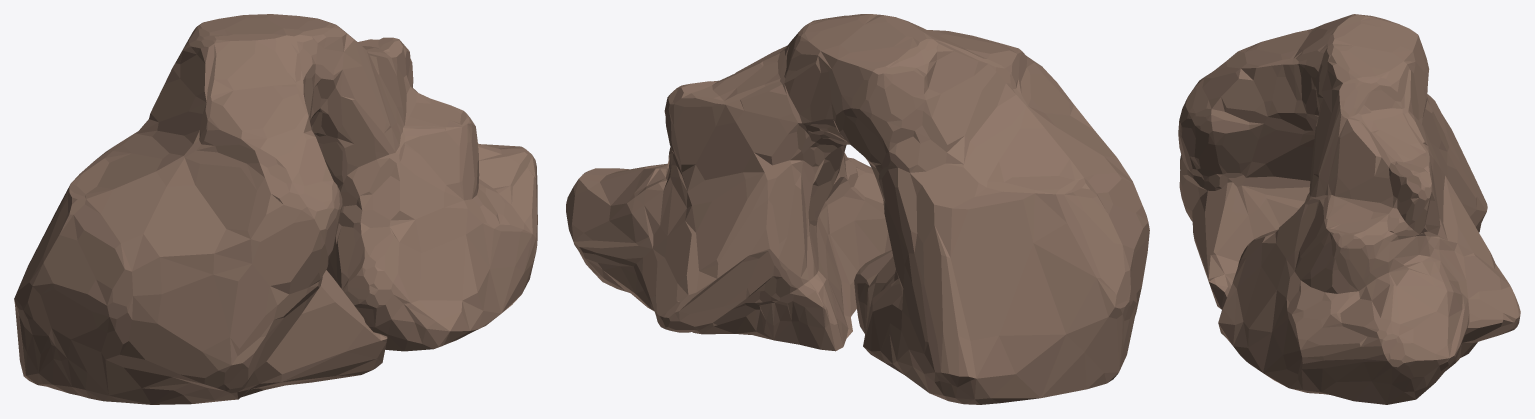
The model's file is zone3-s26.glb.
3 views of the same model, side by side, from view 1: azimuth 30°, elevation 25°; view 2: azimuth 150°, elevation 25°; view 3: azimuth 270°, elevation 25° (orthographic). The views are drawn at different scales.
Parts seen in each view (by area): view 1: rock-sea-huge-tunnel-a.001; view 2: rock-sea-huge-tunnel-a.001; view 3: rock-sea-huge-tunnel-a.001.
Part boxes in pixels (x1=…): rock-sea-huge-tunnel-a.001: x1=14, y1=14, x2=537, y2=404; rock-sea-huge-tunnel-a.001: x1=566, y1=14, x2=1149, y2=404; rock-sea-huge-tunnel-a.001: x1=1178, y1=14, x2=1520, y2=404.
Bounding box in the file's own units: 75.95 × 40.23 × 47.53.
